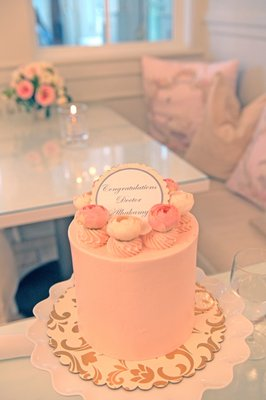curry: (3, 97, 266, 383)
sushi: (67, 162, 201, 362)
